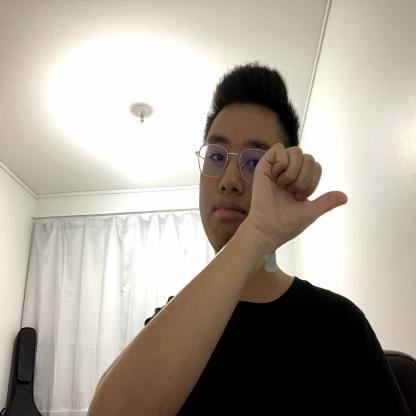left: (248, 140, 349, 251)
